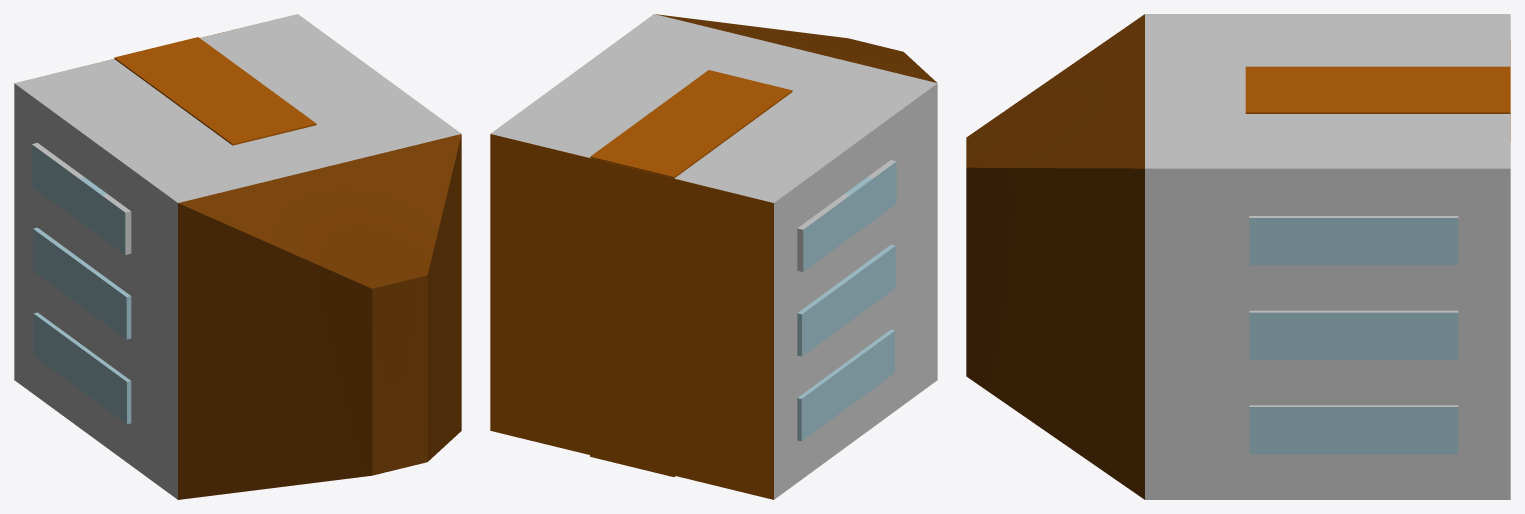
The model's file is Казарма2Origin.fbx.
The picture shows the model from 3 angles, left to right: view 1: azimuth 30°, elevation 25°; view 2: azimuth 150°, elevation 25°; view 3: azimuth 270°, elevation 25°; orthographic projection. The views are drawn at different scales.
Visible parts, largest first — view 1: Казарма2; view 2: Казарма2; view 3: Казарма2.
Part boxes in pixels (<box>): Казарма2: <box>14,14,461,499</box>; Казарма2: <box>490,14,937,499</box>; Казарма2: <box>966,14,1510,499</box>.
Size of the model in its own units: 2.07 by 2.02 by 2.98.
